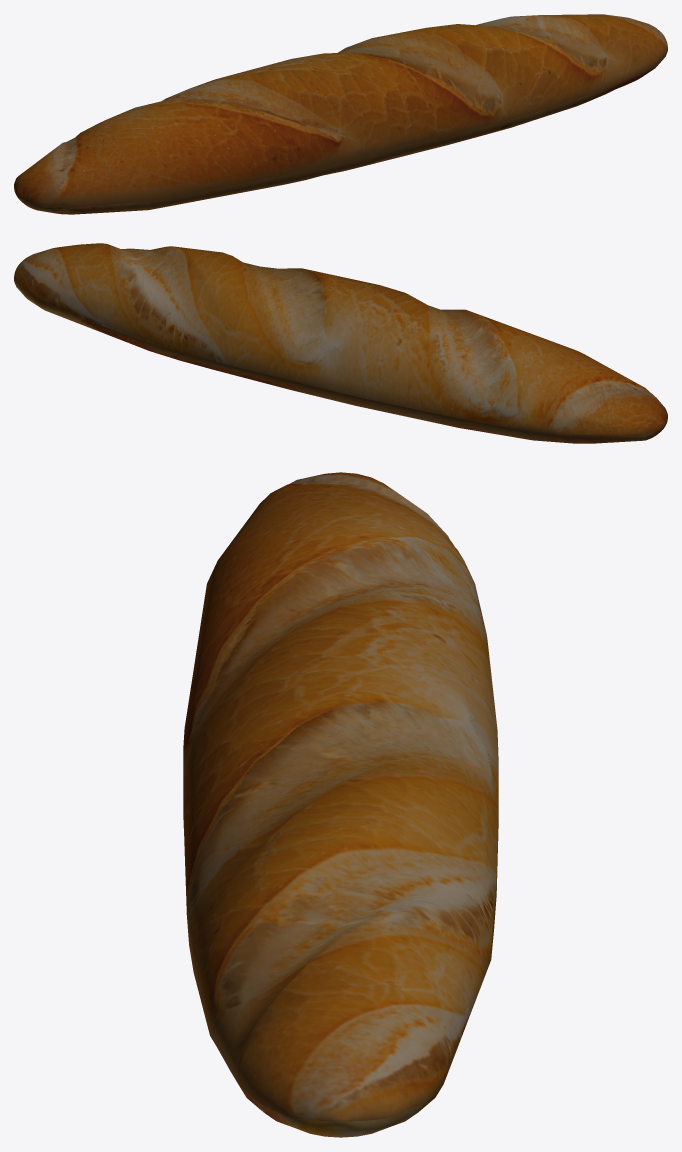
The model's file is bread.glb.
3 renders of one model, top to bottom at view 1: azimuth 30°, elevation 25°; view 2: azimuth 150°, elevation 25°; view 3: azimuth 270°, elevation 25°, orthographic. The views are drawn at different scales.
Parts seen in each view (by area): view 1: Group43081; view 2: Group43081; view 3: Group43081.
Part boxes in pixels (x1,y1,x2,y2): Group43081: (14,14,667,214); Group43081: (14,243,667,443); Group43081: (183,472,498,1137).
Size of the model in its own units: 3.37 by 0.45 by 0.7128.
Materials: 1 (1 with a texture image).
